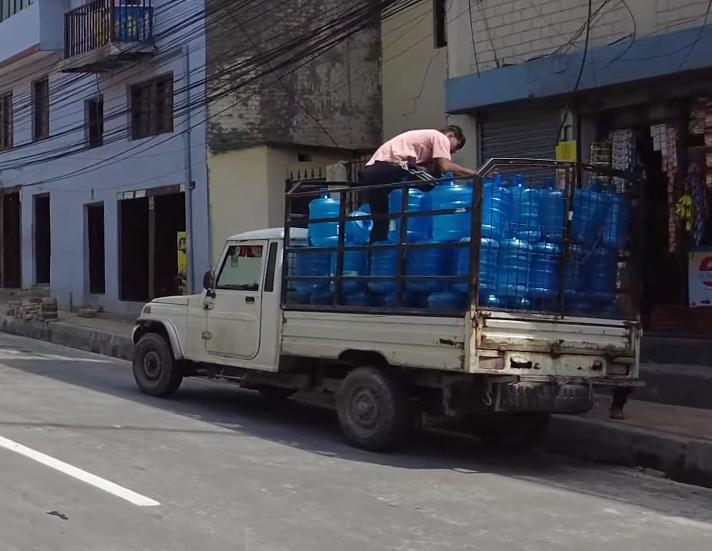transport_vehicle: (126, 167, 684, 457)
